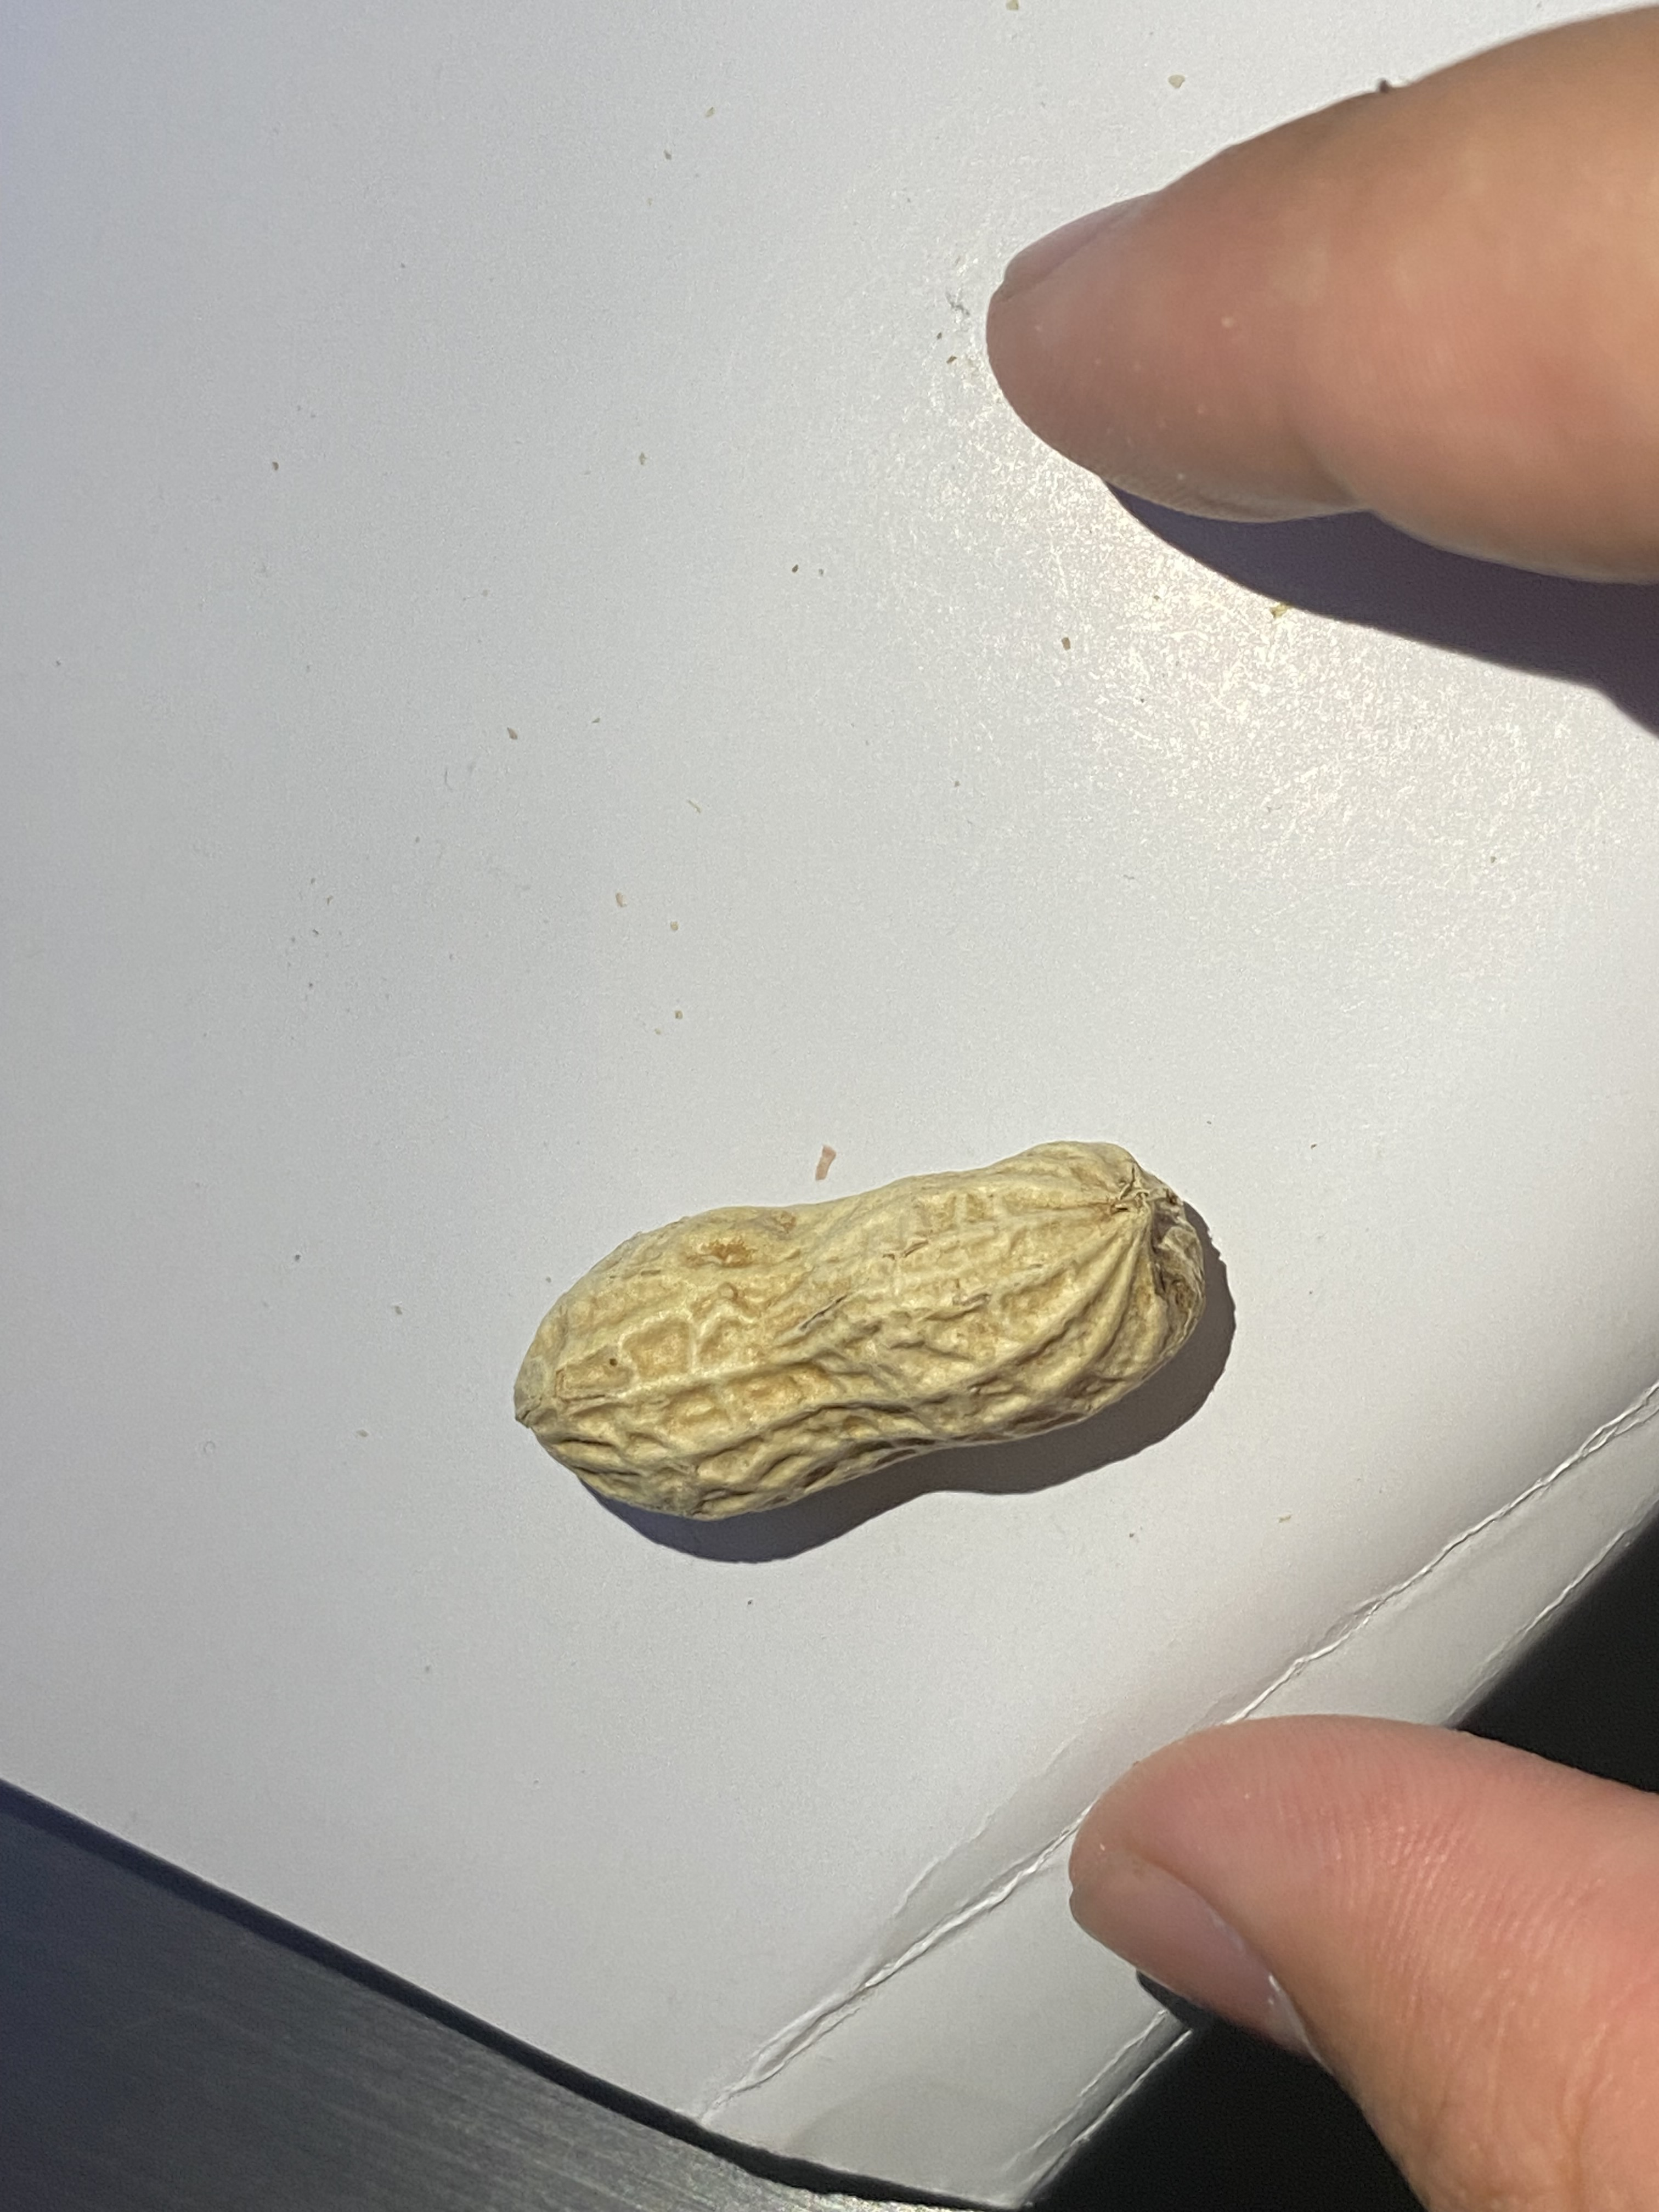kacang2: (502, 1123, 1284, 1562)
